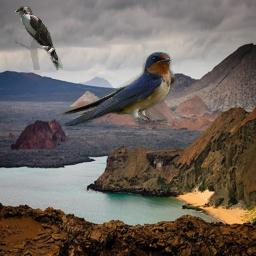Cuckoo: (15, 6, 64, 70)
Swallow: (42, 50, 177, 128)
